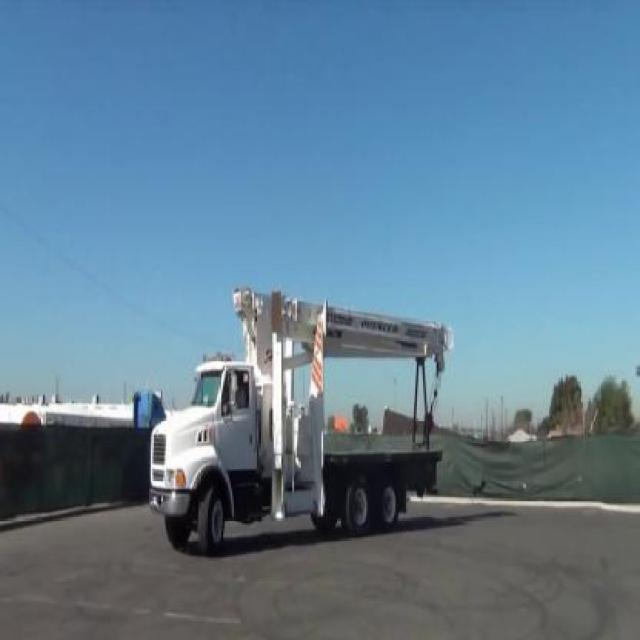Mobile Crane: (149, 288, 451, 546)
